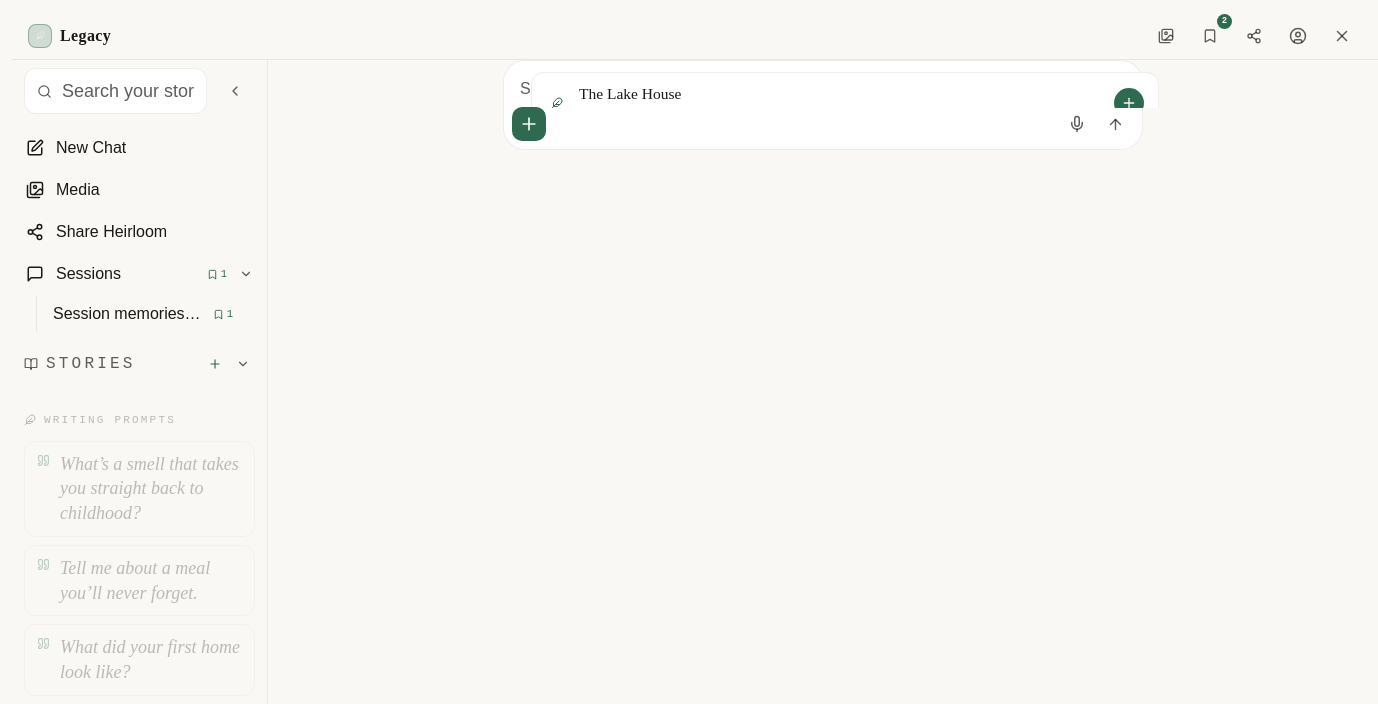
Test: Session memories panel — desktop › tapping a listed memory opens it into MemoryCardView and closes the panel
(page scrolled)
Click the button named "Memories from this chat" at (1210, 36), box [1190,16,1230,56]
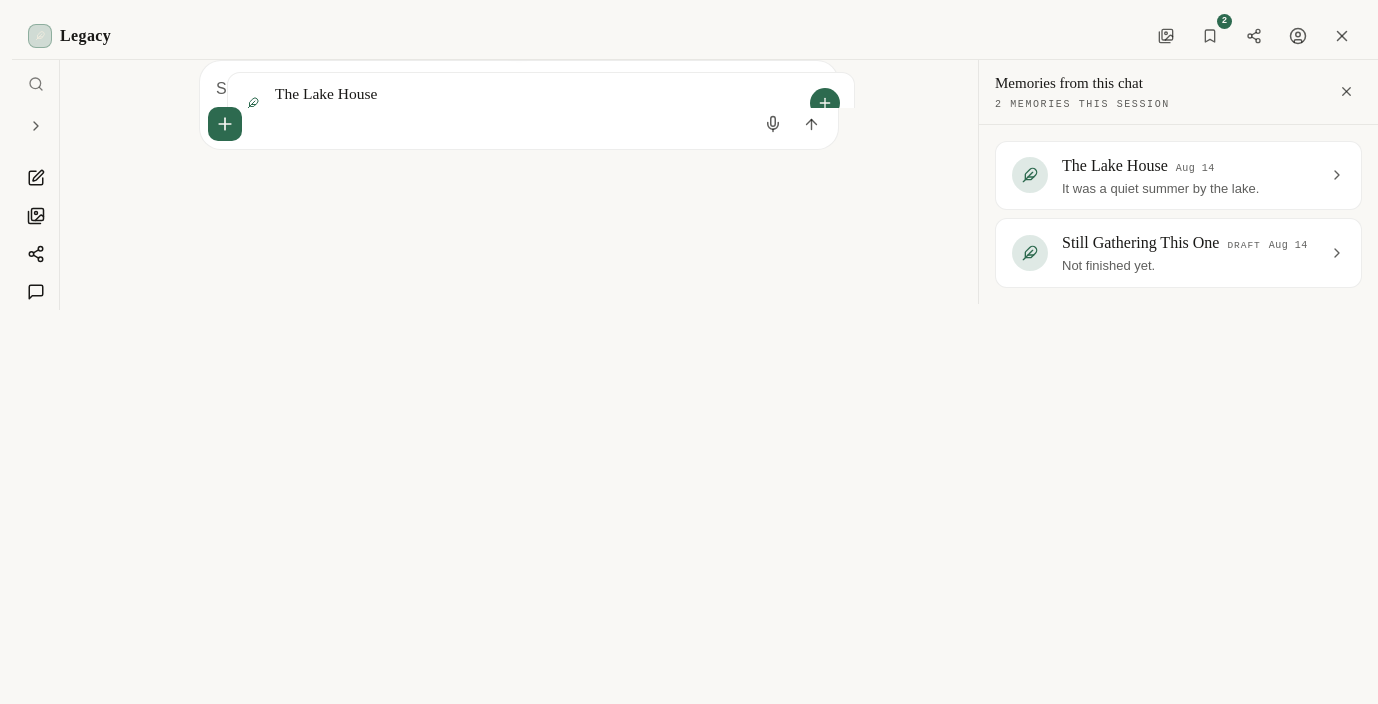
Expected: the heading "Memories from this chat" is shown, [995,75,1143,91]
Click the button "The Lake House Aug 14 It was a quiet summer by the lake." at (1178, 175), box [995,140,1362,210]
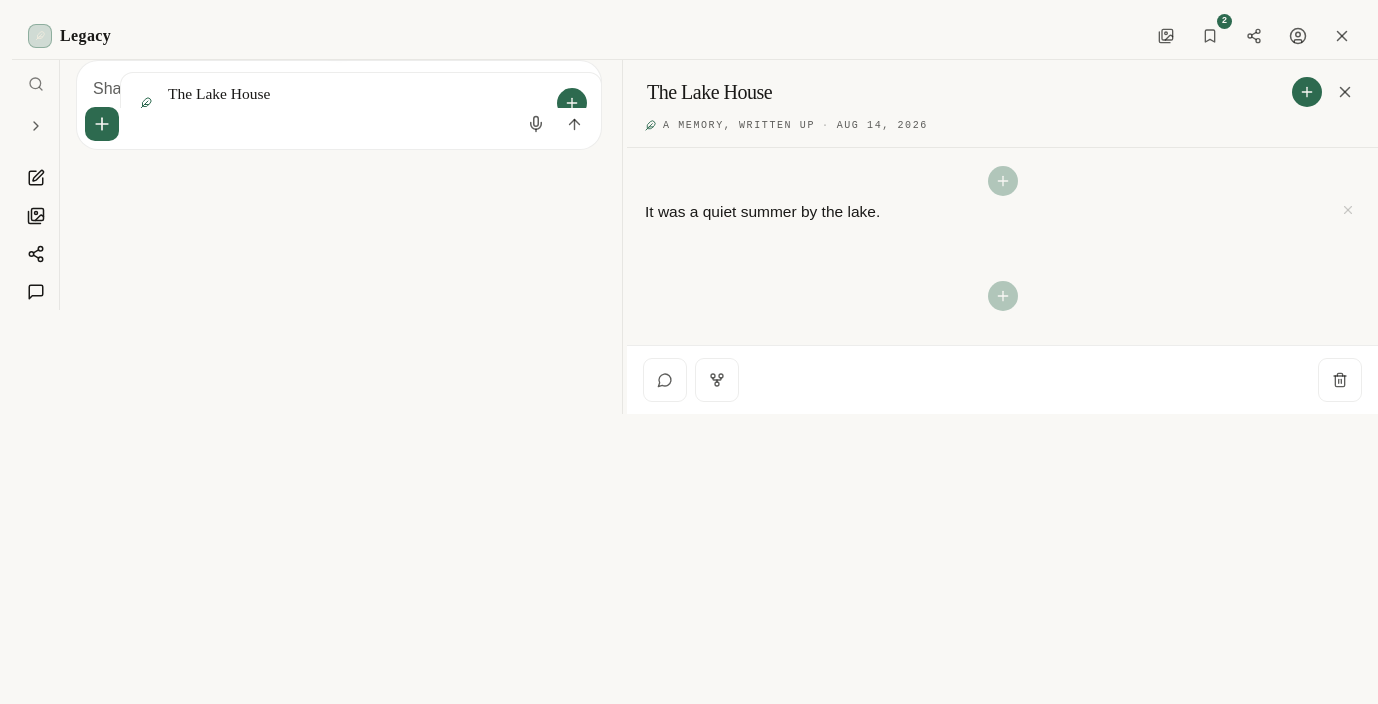
Expected: the field named "Memory title" holds "The Lake House", [645,74,1284,110]
Expected: the heading "Memories from this chat" is gone
